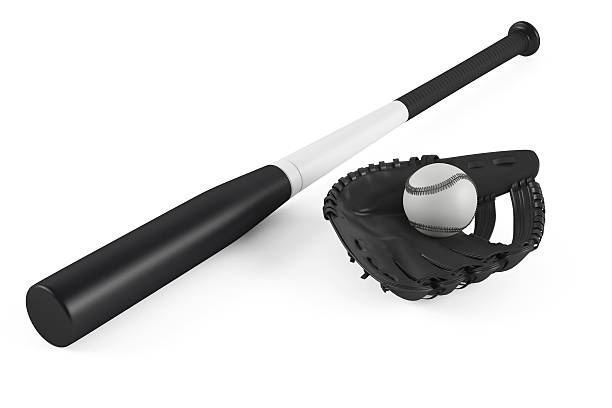bita: (21, 18, 541, 346)
